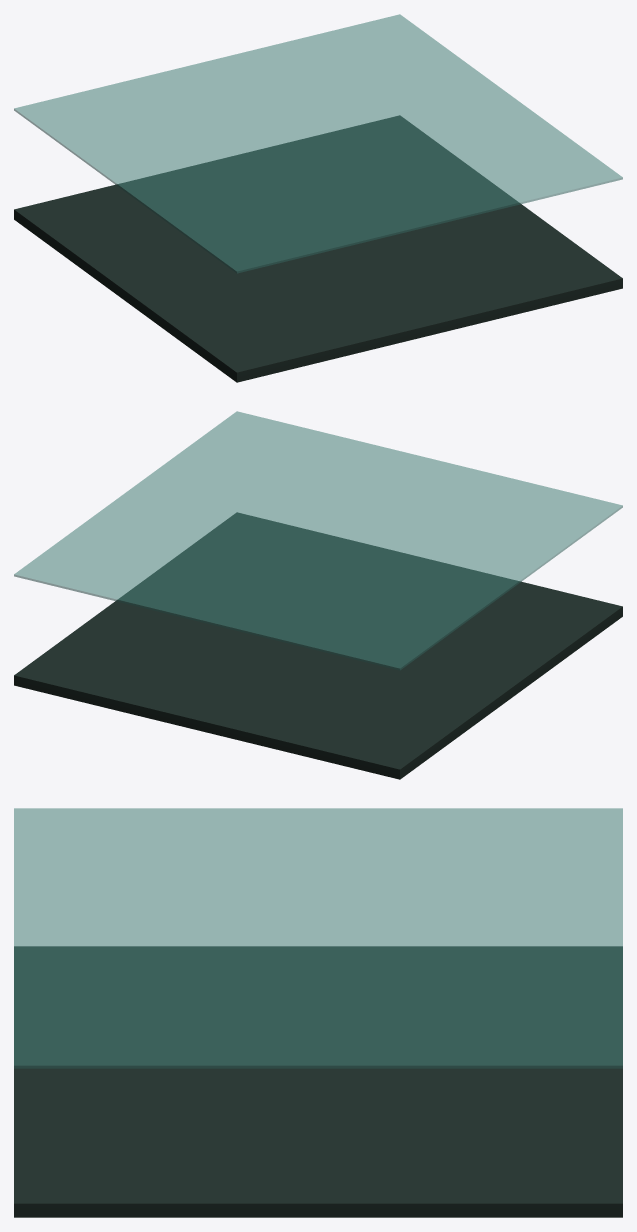
Rendered from floor_pool_center_A.glb.
The picture shows the model from 3 angles, top to bottom: view 1: azimuth 30°, elevation 25°; view 2: azimuth 150°, elevation 25°; view 3: azimuth 270°, elevation 25°; orthographic projection. The views are drawn at different scales.
Visible parts, largest first — view 1: Item; view 2: Item; view 3: Item.
Part boxes in pixels (box(x1,y1,x2,y2)): Item: box(14, 14, 622, 382); Item: box(14, 411, 622, 779); Item: box(14, 808, 622, 1217).
Size of the model in its own units: 4 by 1.1 by 4.
2 materials, 2 textured.
